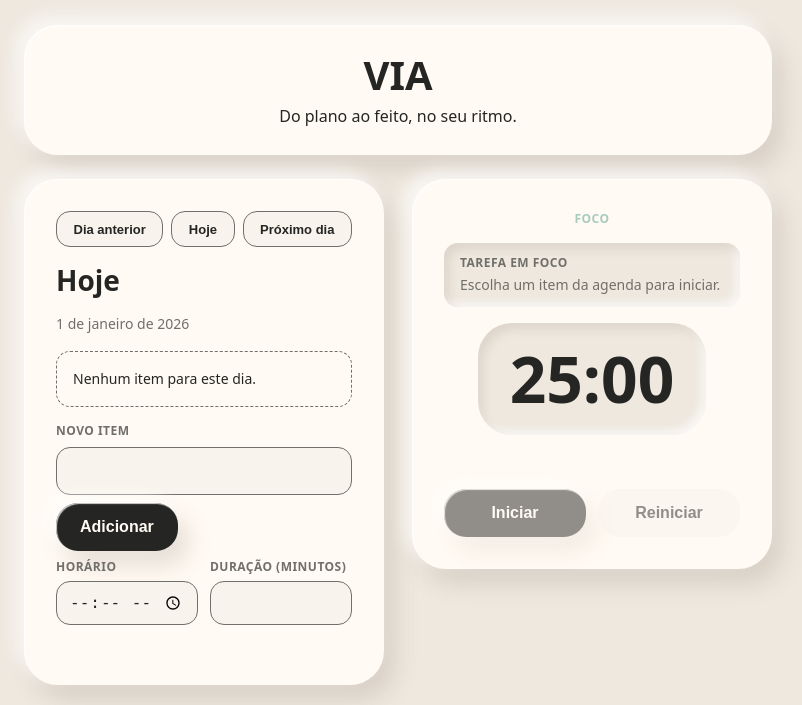
Test: App integration: agenda planning and focus timer › creates an item with an optional start time and duration, deriving the end time
Type "Write the report" into the field labelled "Novo item". click: (204, 471)
box: [56,447,352,495]
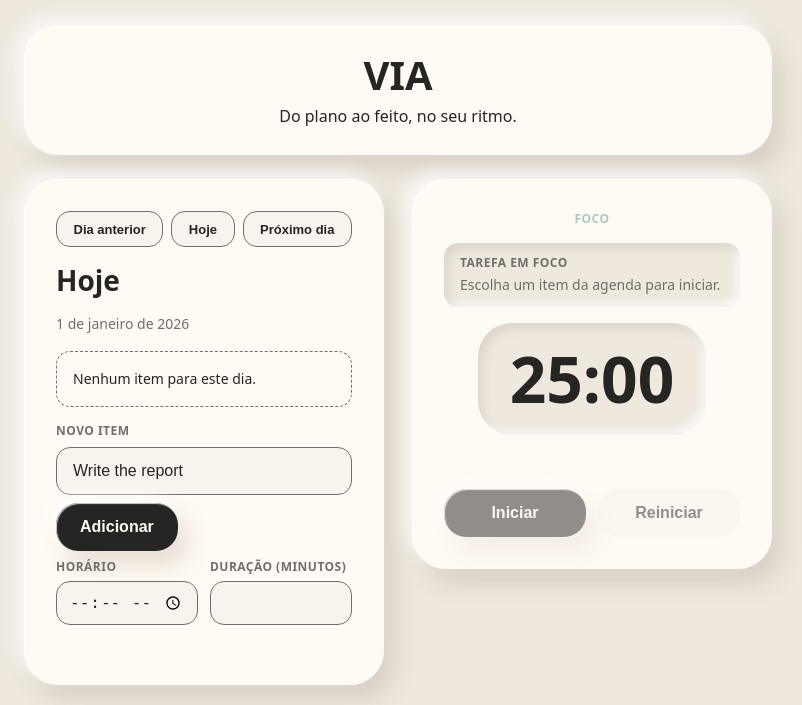
Type "09:00" into the time field labelled "Horário". click: (127, 603)
box: [56,581,198,625]
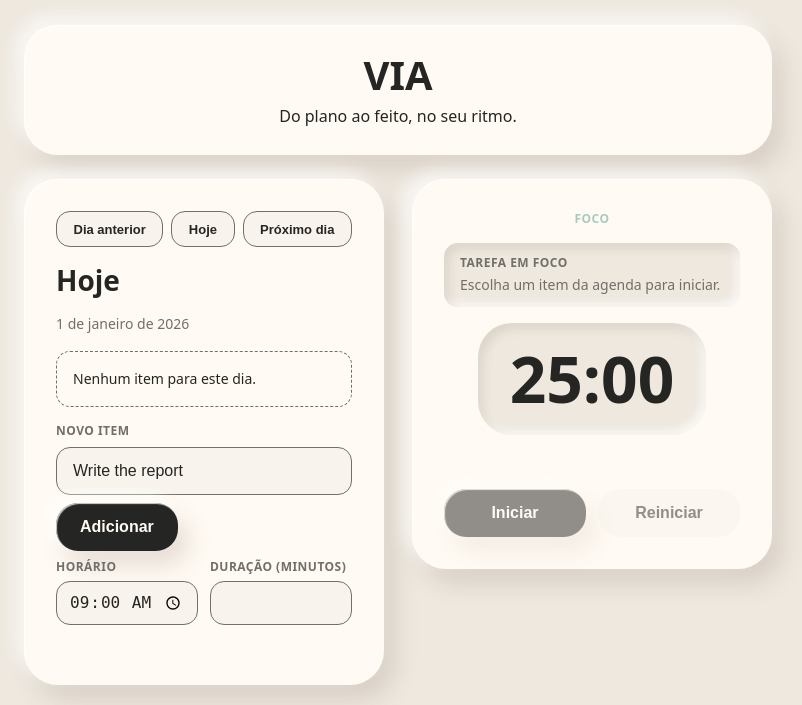
Type "30" into the number field labelled "Duração (minutos)". click: (281, 603)
box: [210,581,352,625]
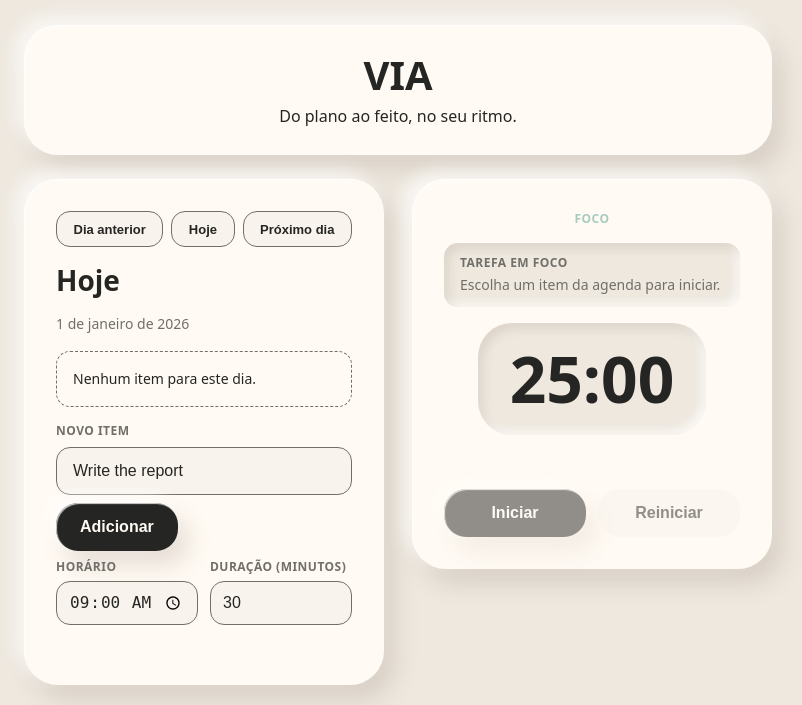
Click the button "Adicionar". click: (117, 527)
box: [56,503,178,551]
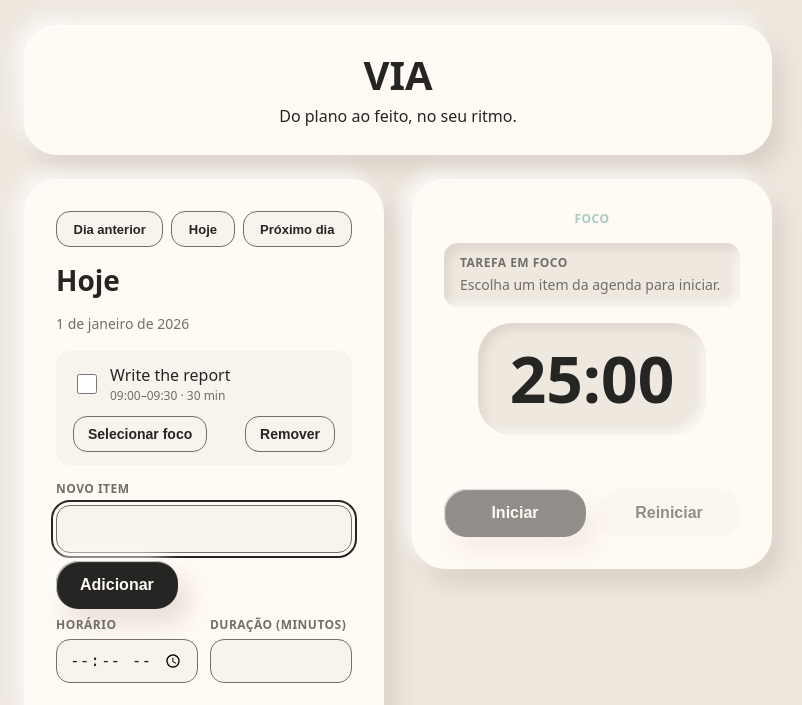
Result: the text "09:00–09:30 · 30 min" is shown at [110,388,230,404]
Click the button named "Selecionar item \"Write the report\" para foco". click: (140, 434)
box: [73,416,207,452]
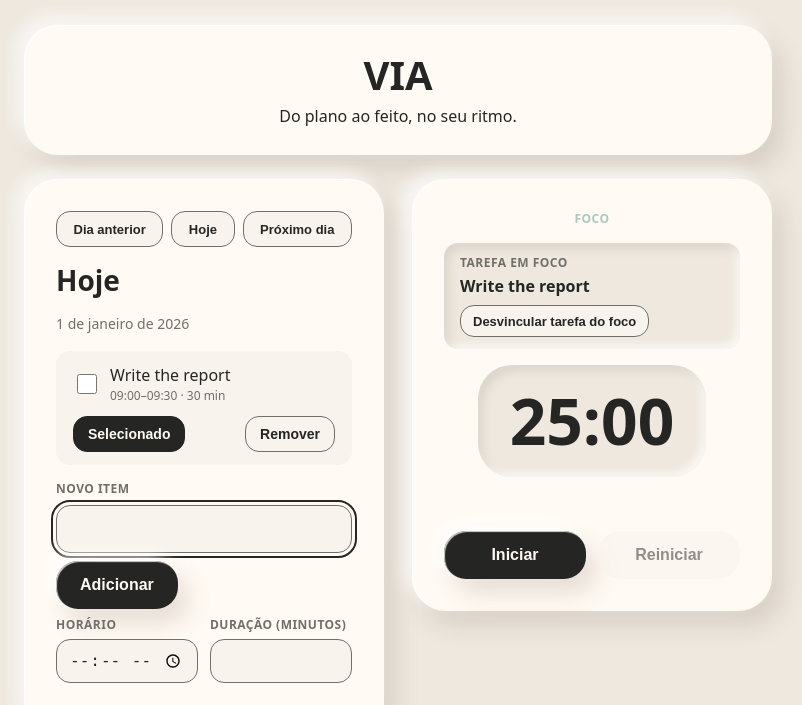
Result: the text "Write the report" below "Tarefa em foco" is shown at [460,275,590,297]
